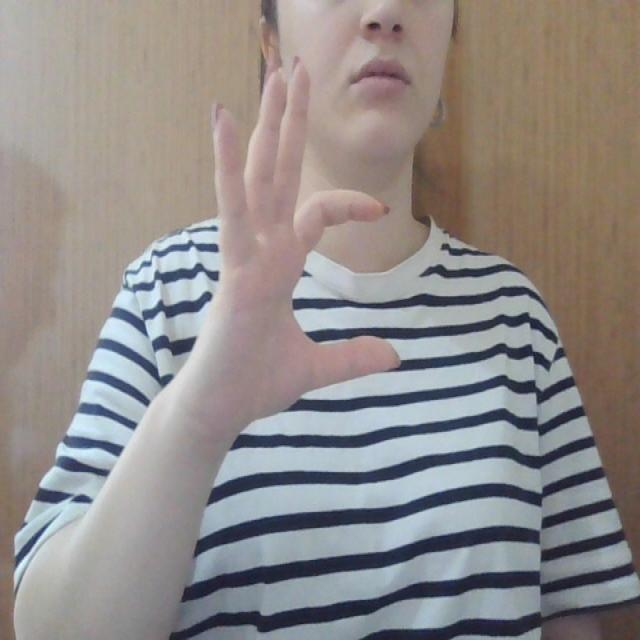Tuvalet: (188, 40, 436, 437)
